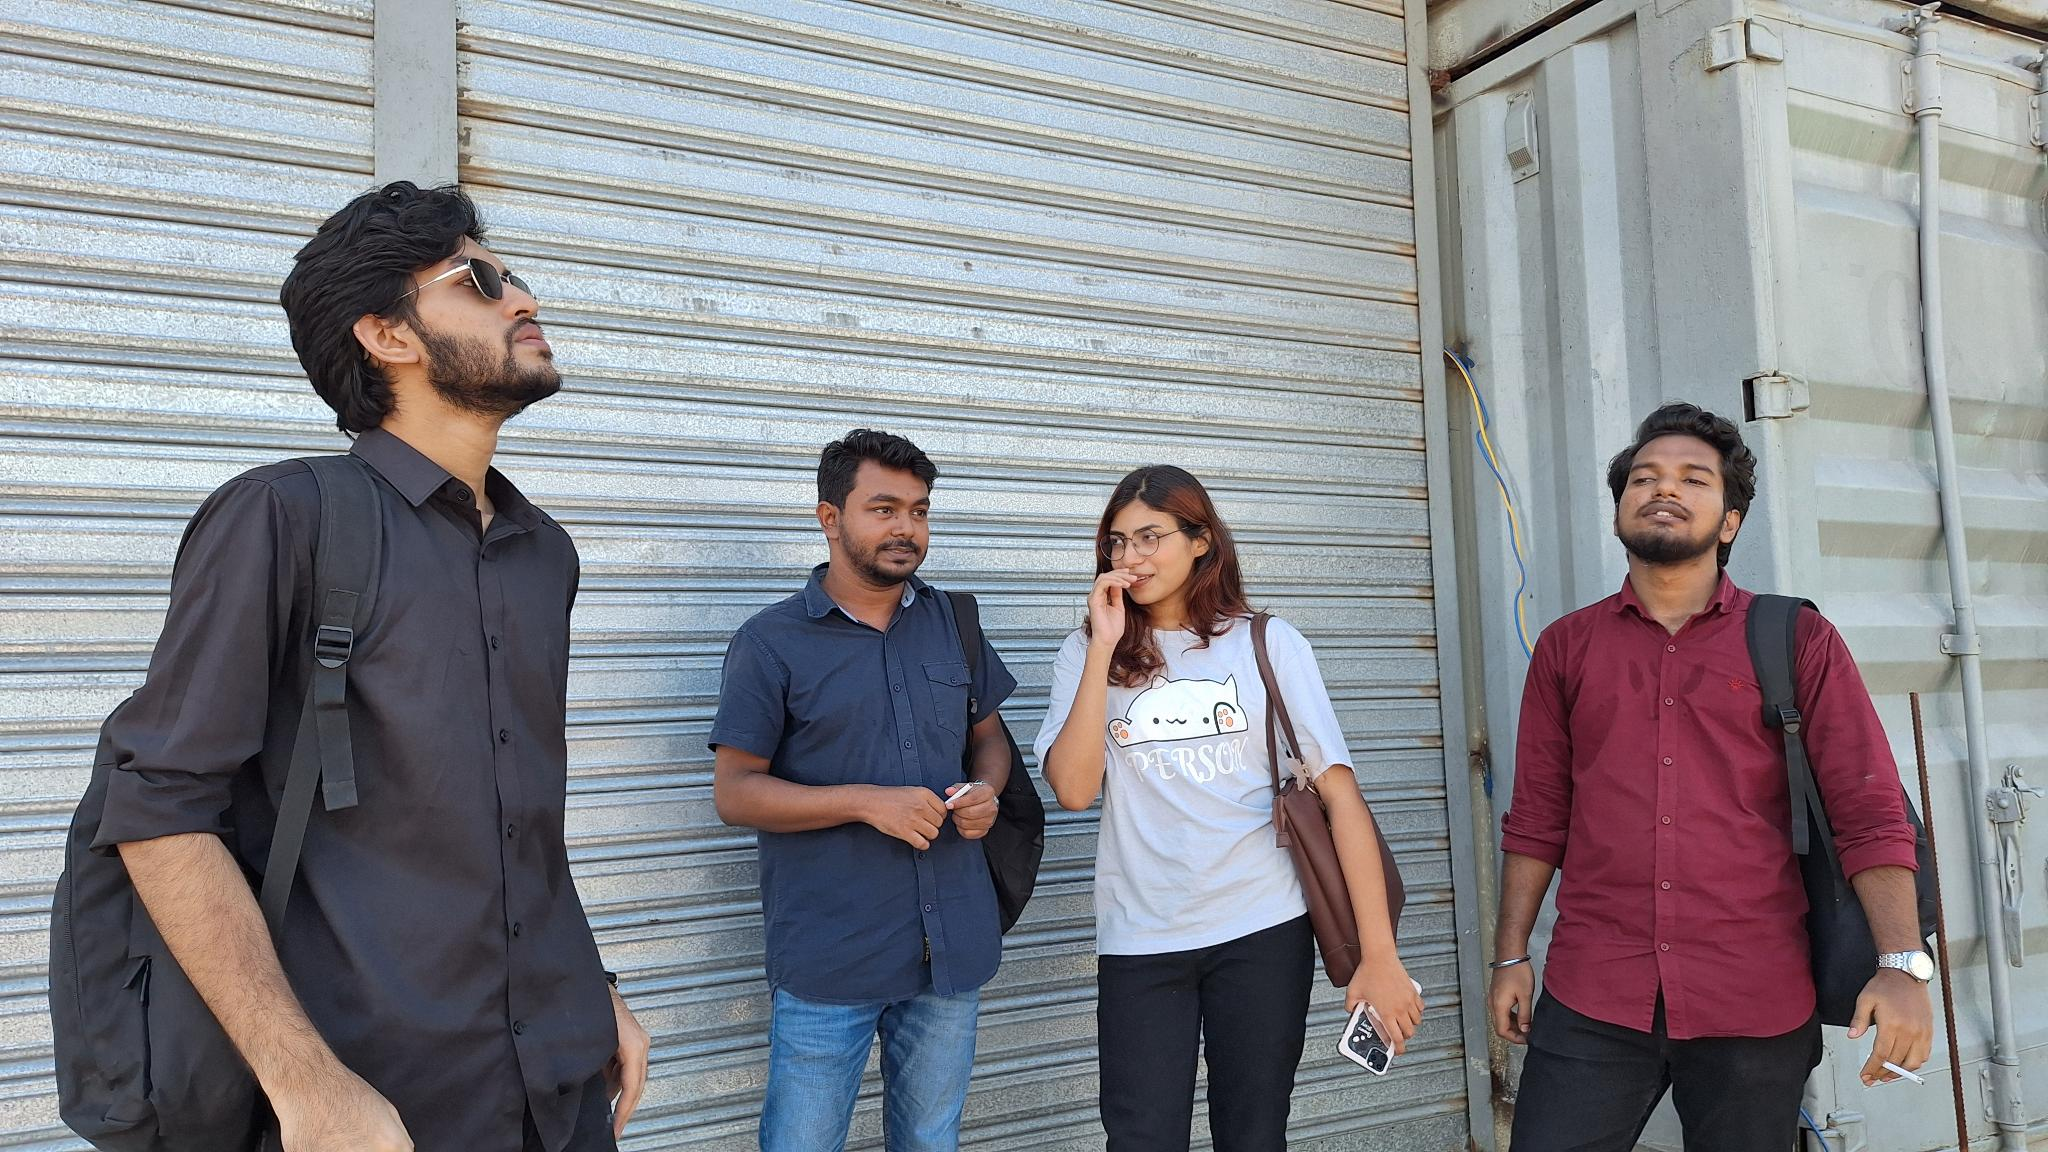cigarette: (1879, 1059, 1927, 1089), (942, 781, 975, 806)
nonSmoker: (48, 176, 650, 1152), (1032, 464, 1425, 1152)
smoker: (1490, 405, 1940, 1152), (708, 428, 1045, 1152)
